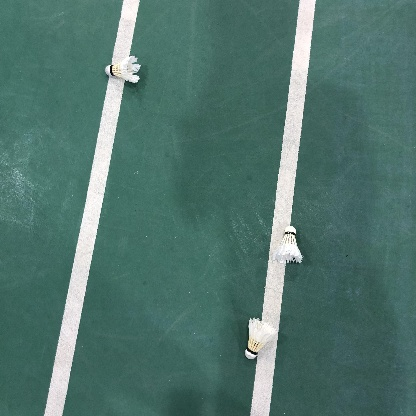ball_single: (245, 317, 277, 359), (273, 226, 303, 263), (105, 56, 141, 84)
